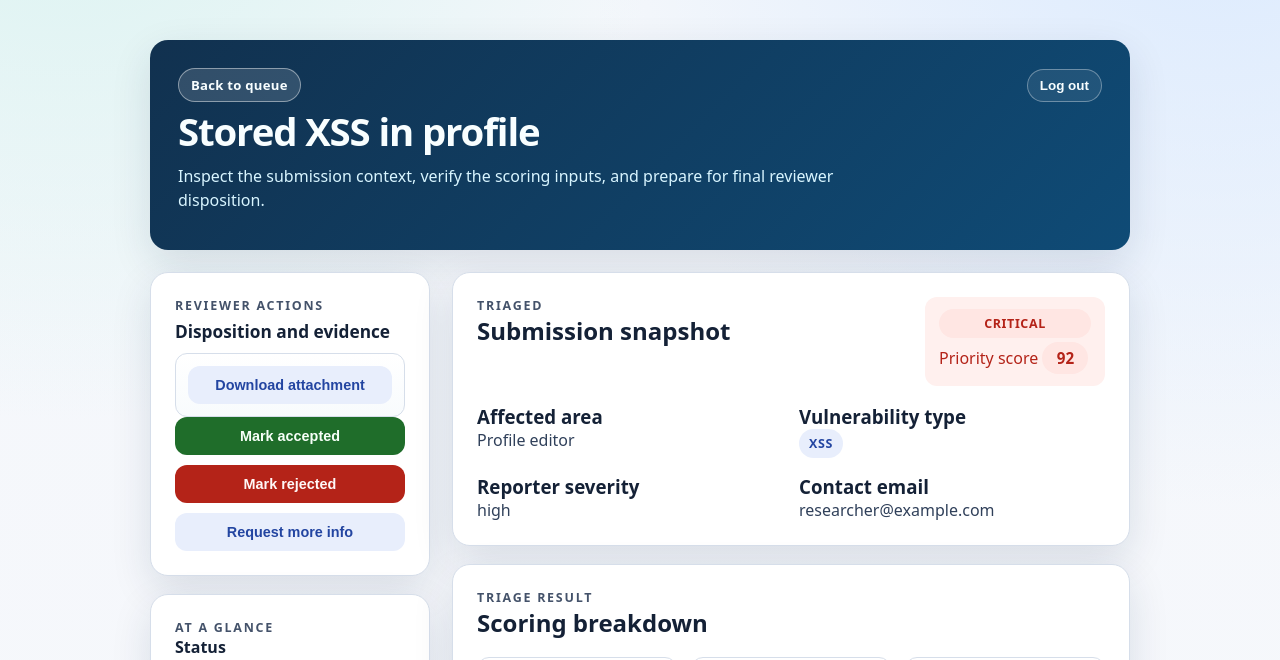
Test case: ReviewerReportDetailPage › updates report status from the reviewer actions rail
Check: the heading "Stored XSS in profile" is shown, box [178,105,540,157]
What coordinates should you click on to do the following:
click the button "Mark accepted"
I would click on:
 (290, 436)
Its box is [175,417,405,455].
(page scrolled)
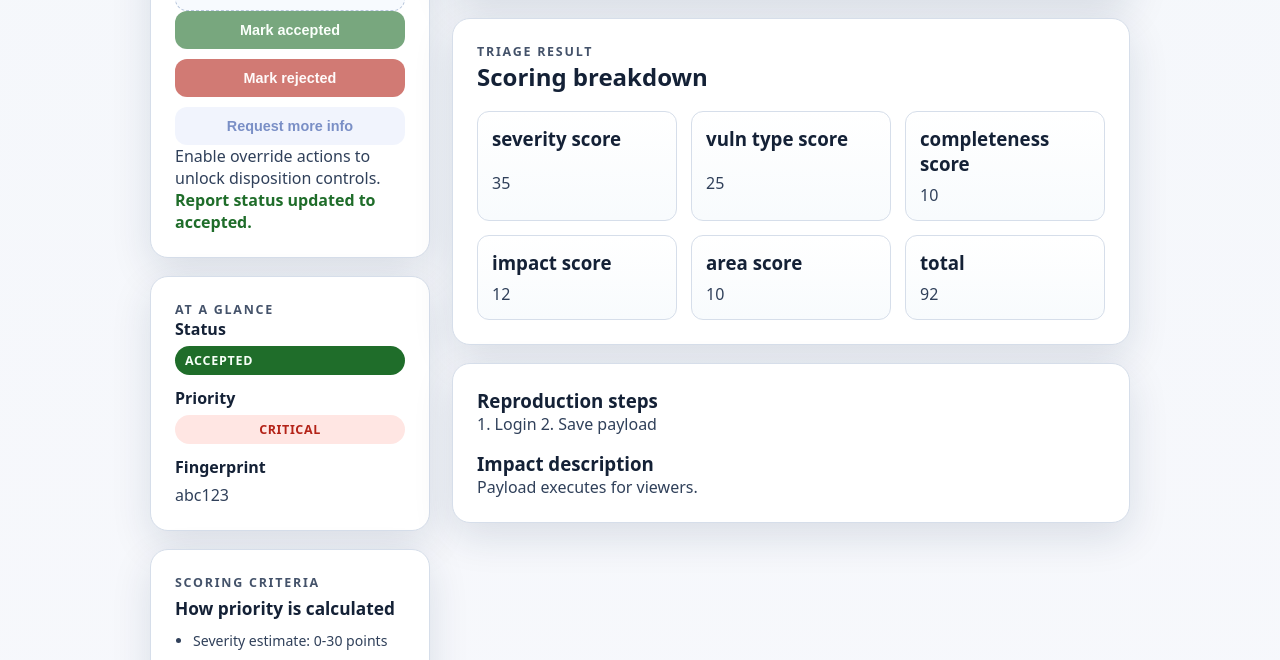
Check: the text "Report status updated to accepted." is shown, box [175,189,405,233]
